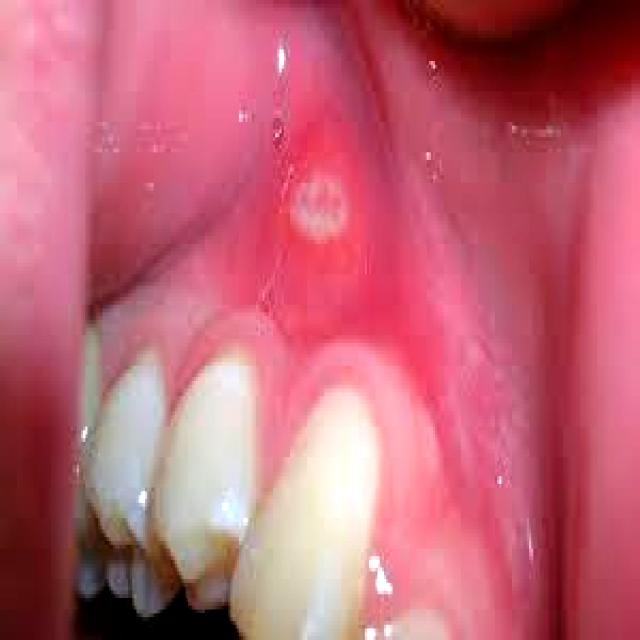ulcer: (290, 171, 346, 240)
